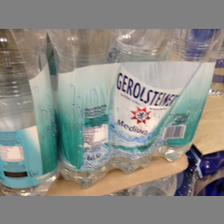water: (1, 29, 61, 194), (49, 30, 112, 186), (113, 30, 168, 174)
